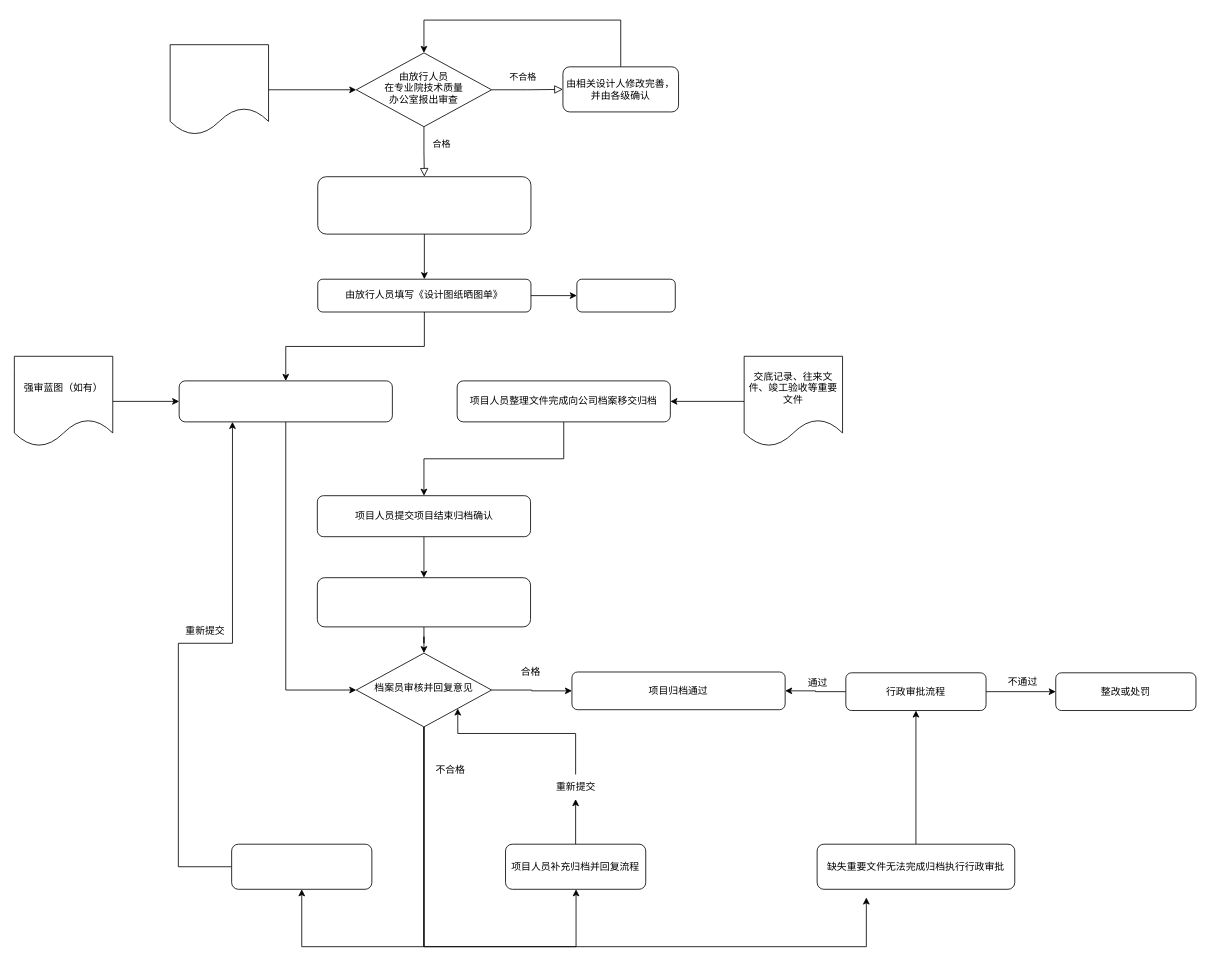
This 1210x968 diagram has some shape labels left out. The box of each missing label's shape, as (x1, y1, x2, y2) in pixels:
交图文晒印: (576, 278, 675, 312)
可研、初步设计、施工设计、各阶段设计成果原件、质量记录文件、输入文件: (169, 44, 269, 135)
放行员整理文件完成向公司档案移交归档: (178, 380, 392, 422)
放行员补充归档并回复流程: (231, 843, 372, 889)
由放行人员在成果上加盖放行章,填写 《设计文件报出审查记录单及归档移交清单》: (317, 176, 531, 234)
经营管理部审核通过向公司档案部门发起 项目结束确认归档验证流程: (317, 577, 531, 627)
